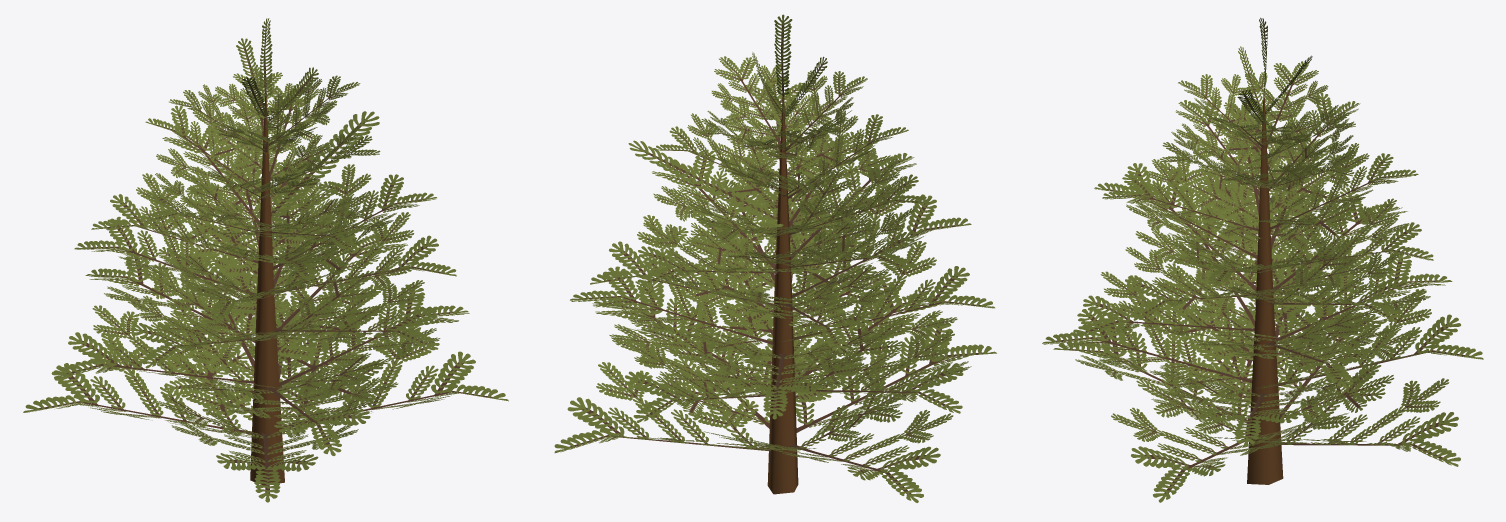
File: Fir_Tree_3.fbx
3 renders of one model, left to right at view 1: azimuth 30°, elevation 25°; view 2: azimuth 150°, elevation 25°; view 3: azimuth 270°, elevation 25°, orthographic. The views are drawn at different scales.
Parts seen in each view (by area): view 1: Fir_Tree_3; view 2: Fir_Tree_3; view 3: Fir_Tree_3.
Part boxes in pixels (<box>): Fir_Tree_3: <box>23,18,508,502</box>; Fir_Tree_3: <box>554,14,996,502</box>; Fir_Tree_3: <box>1042,17,1483,502</box>.
Bounding box in the file's own units: 403 × 444 × 399.
2 materials, 2 textured.
